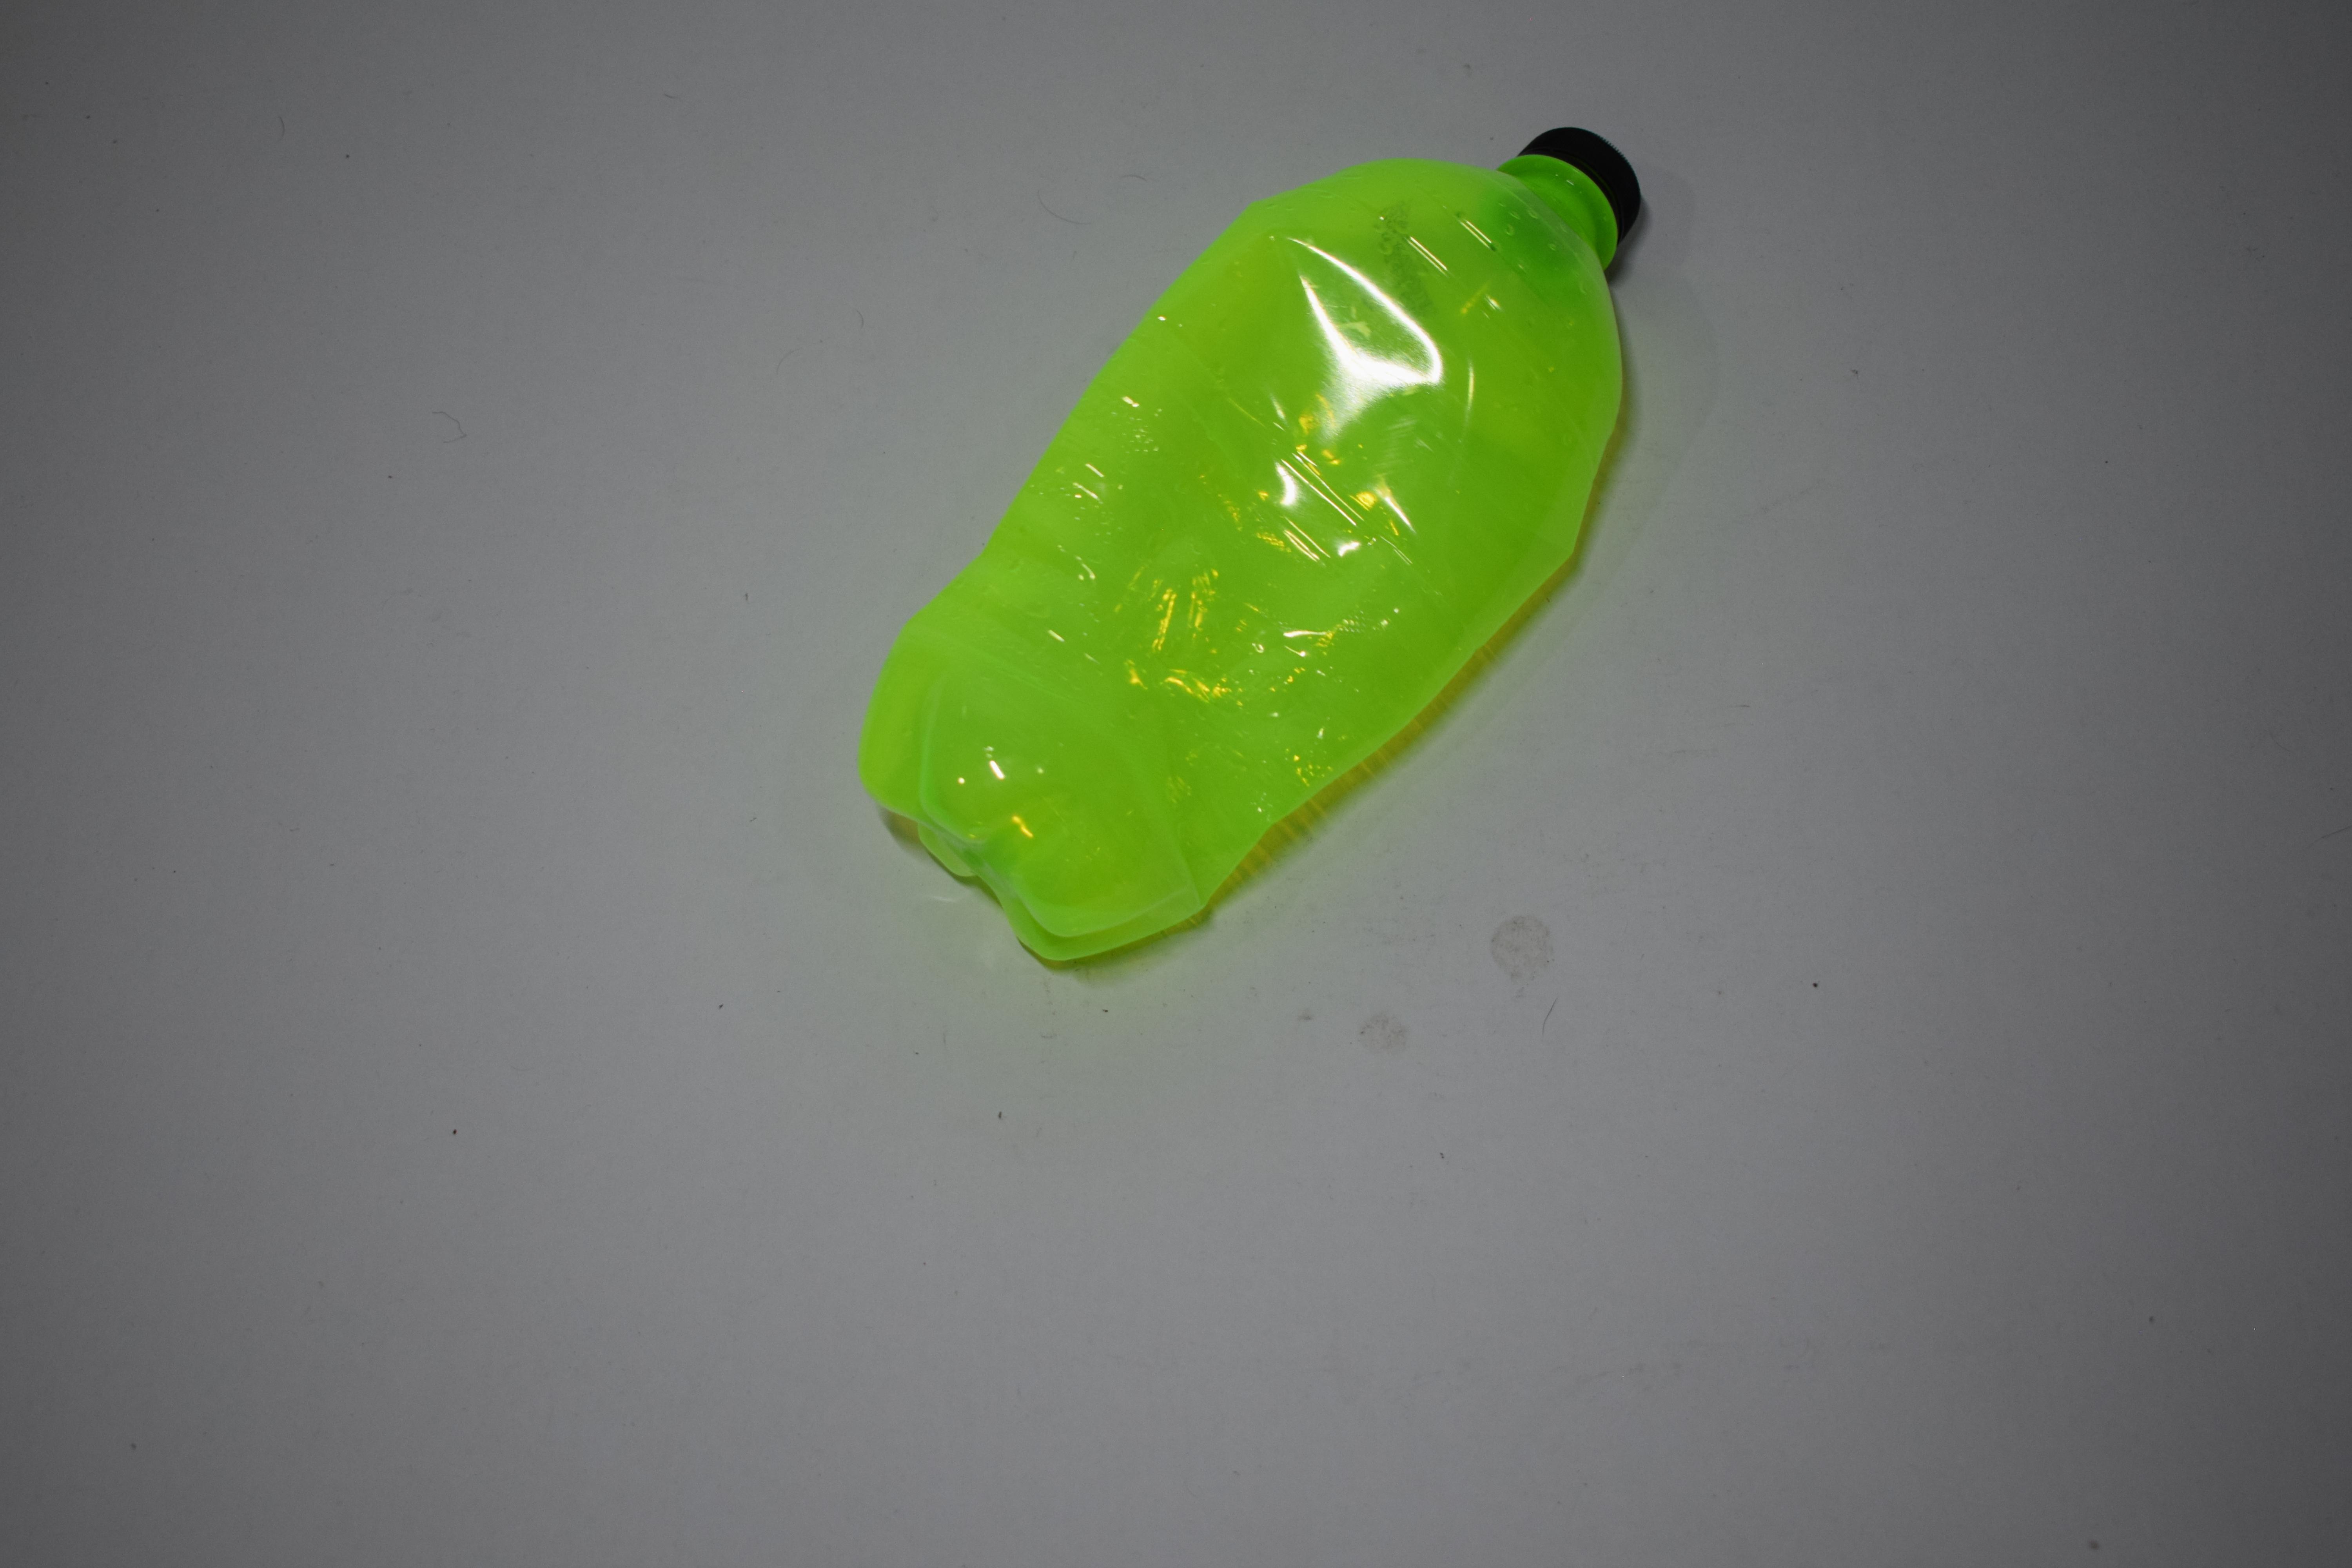bottle: (0, 502, 474, 565)
